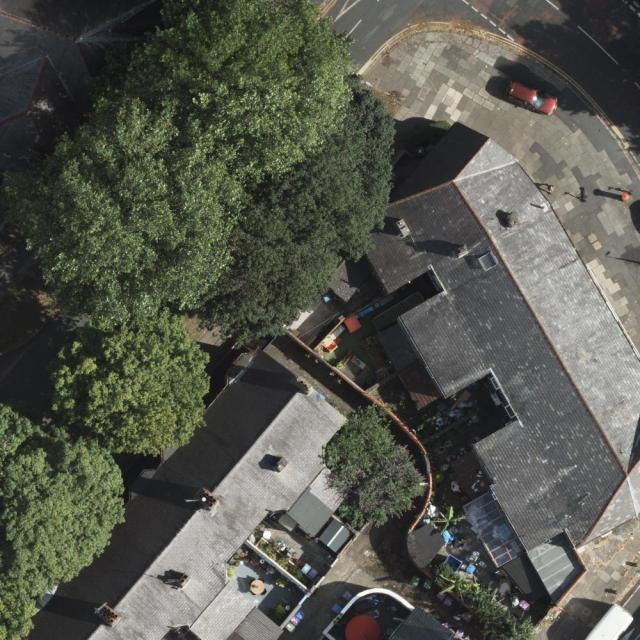roof: (359, 121, 640, 556), (9, 344, 357, 640)
skylight: (472, 248, 503, 278)
